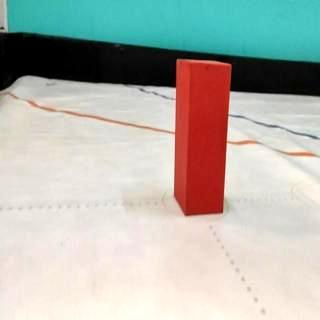redbox: (175, 58, 232, 214)
